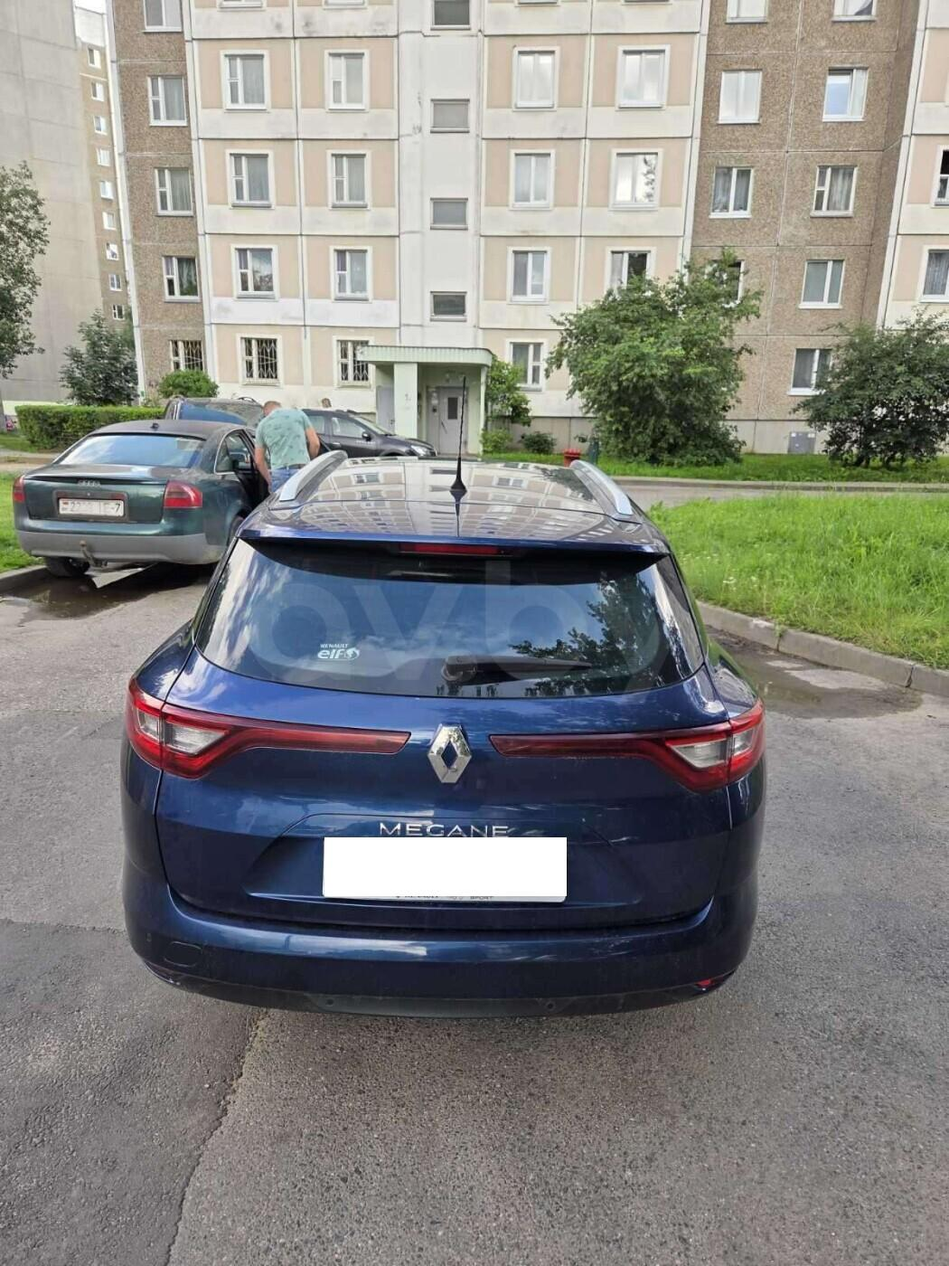Megane_2016-2020: (112, 447, 777, 1016)
